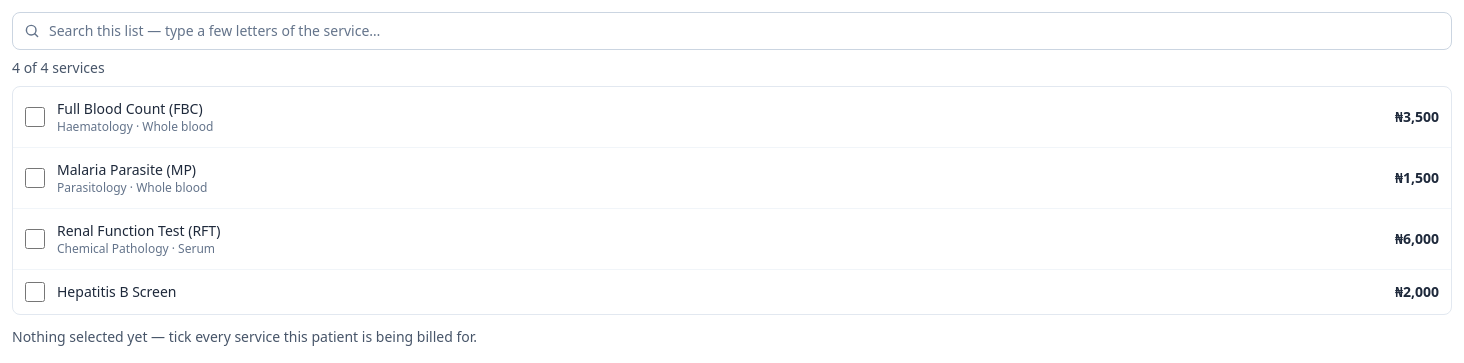
Test: Reception picking the services to bill › filters a long catalogue as you type
The image size is (1464, 363).
expect the text "Malaria Parasite (MP)" is shown: met, box top-left (57, 160), bottom-right (196, 179)
Type "malaria" into the search field named "Search services" at (732, 31), box top-left (12, 12), bottom-right (1452, 50)
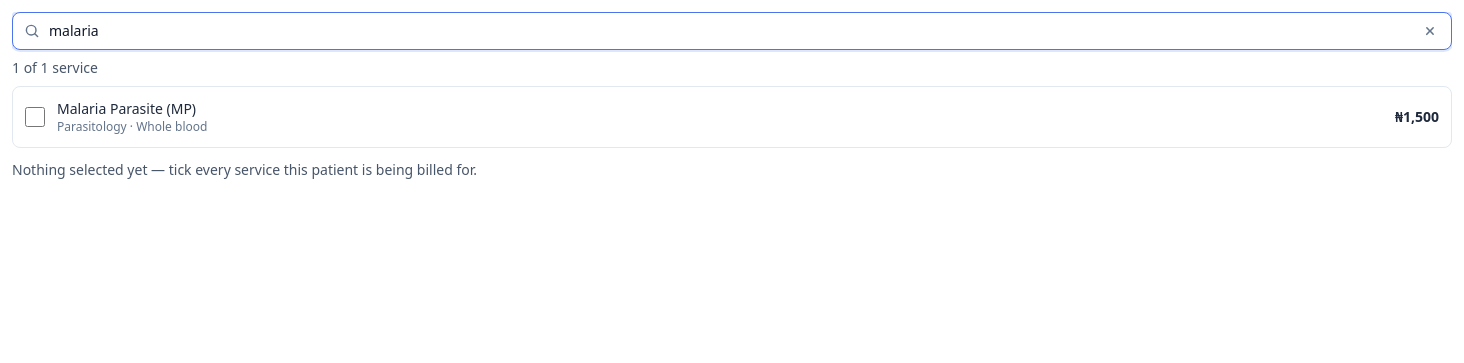
expect the text "Malaria Parasite (MP)" is shown: met, box top-left (57, 99), bottom-right (196, 118)
expect the text "Full Blood Count (FBC)" is gone: met
